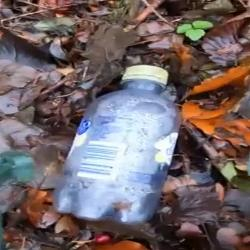Plastic: (53, 65, 182, 223)
